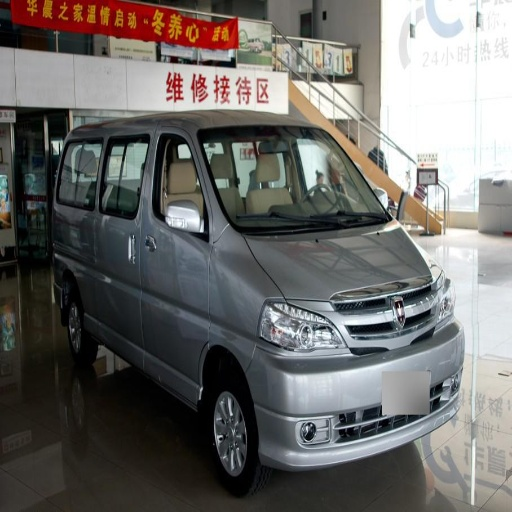front_bumper: (245, 312, 462, 470)
front_right_door: (141, 130, 210, 392)
front_right_light: (260, 297, 342, 353)
hood: (243, 224, 438, 347)
